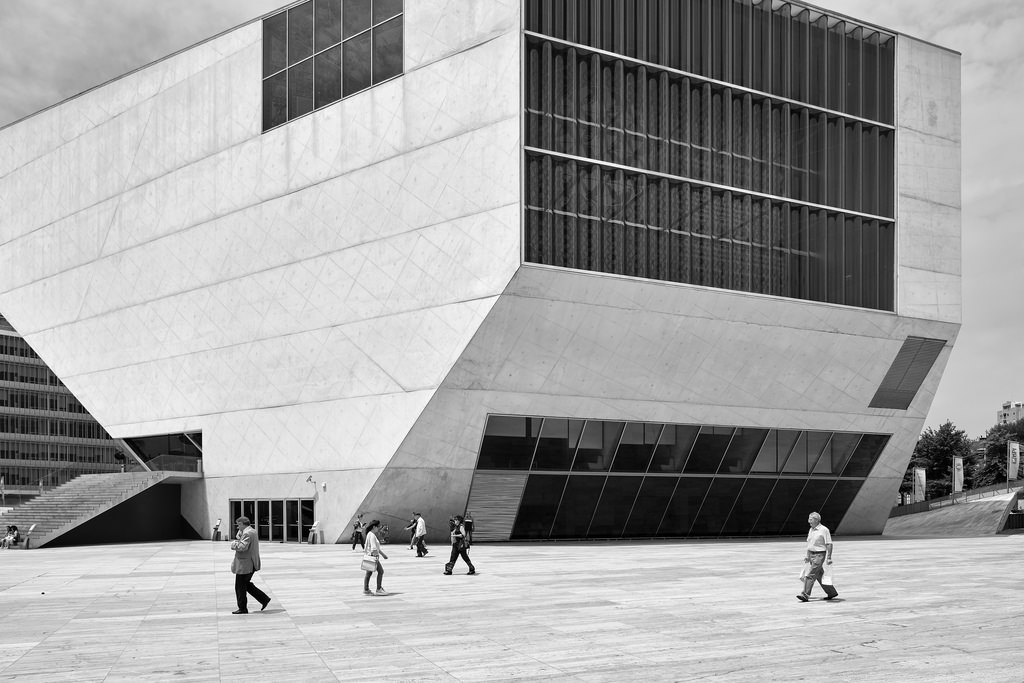musica: (0, 0, 963, 544)
